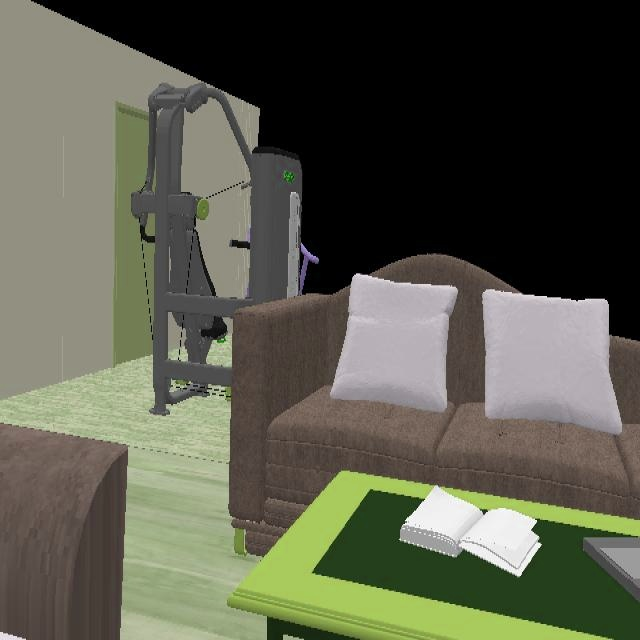book: (398, 487, 542, 579)
laptop: (583, 536, 640, 613)
pillow: (480, 289, 623, 436), (327, 275, 459, 415)
sofa: (227, 255, 640, 559), (0, 423, 128, 640)
table: (228, 471, 640, 640)
